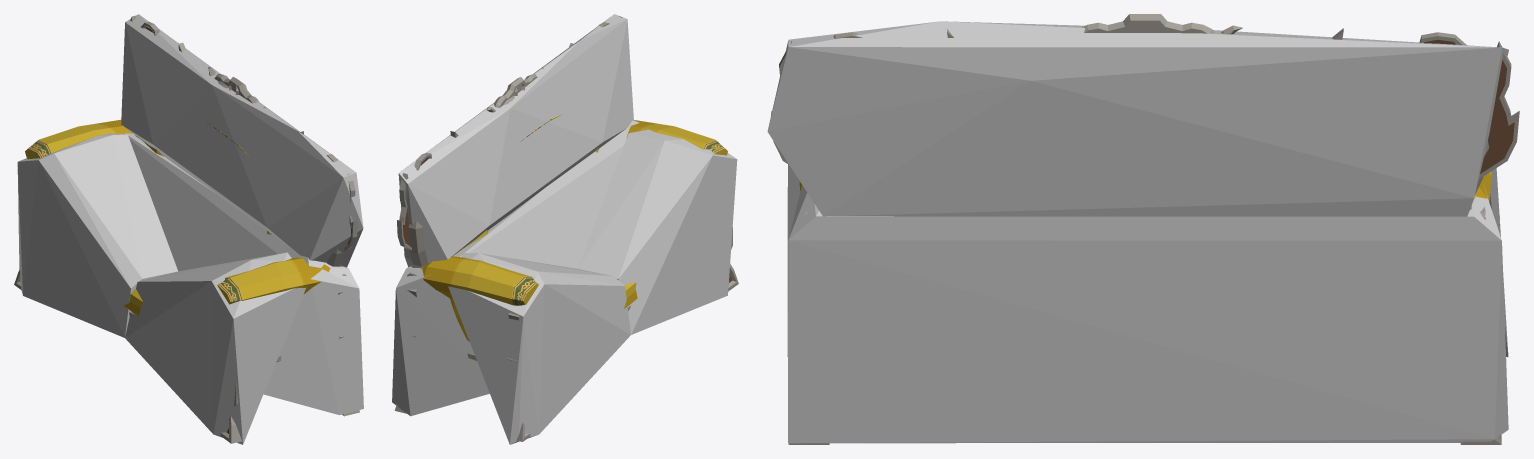
Rendered from SM_Prop_Couch_02.fbx.
The picture shows the model from 3 angles, left to right: view 1: azimuth 30°, elevation 25°; view 2: azimuth 150°, elevation 25°; view 3: azimuth 270°, elevation 25°; orthographic projection. The views are drawn at different scales.
Visible parts, largest first — view 1: SM_Prop_Couch_02_ConvexHulls, SM_Prop_Couch_02; view 2: SM_Prop_Couch_02_ConvexHulls, SM_Prop_Couch_02; view 3: SM_Prop_Couch_02_ConvexHulls, SM_Prop_Couch_02.
Part boxes in pixels (bbox=[...]): SM_Prop_Couch_02_ConvexHulls: bbox=[17, 14, 363, 444]; SM_Prop_Couch_02: bbox=[14, 15, 359, 443]; SM_Prop_Couch_02_ConvexHulls: bbox=[392, 14, 737, 444]; SM_Prop_Couch_02: bbox=[394, 16, 738, 441]; SM_Prop_Couch_02_ConvexHulls: bbox=[767, 21, 1508, 443]; SM_Prop_Couch_02: bbox=[771, 14, 1519, 444].
Bounding box in the file's own units: 89.37 × 258 × 162.
2 materials, 1 textured.
